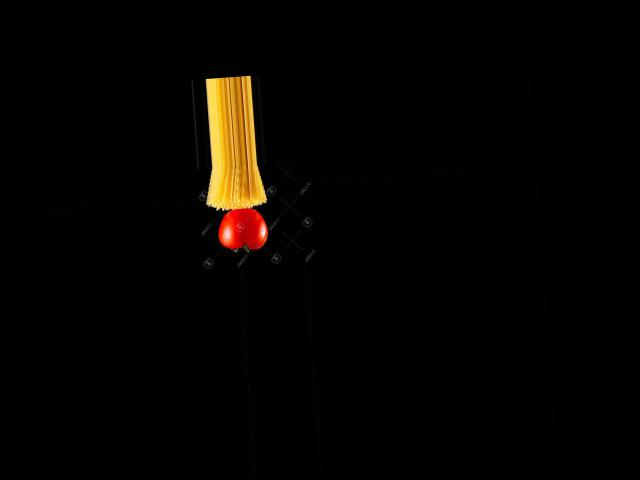tomato: (216, 206, 267, 251)
